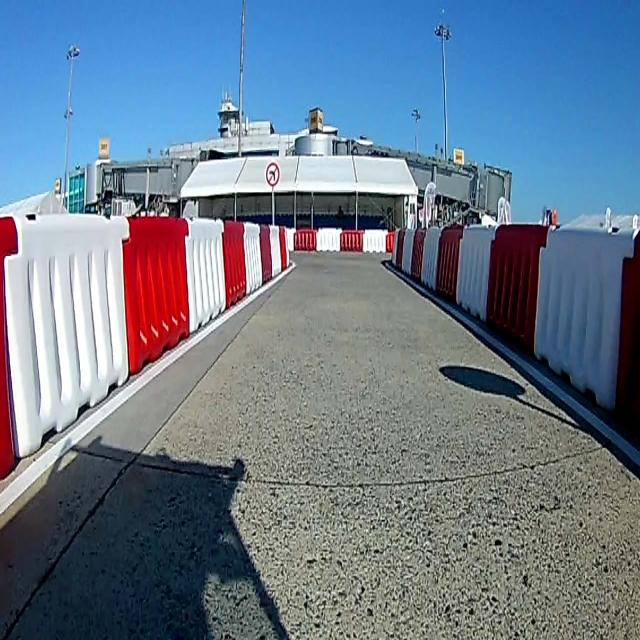soladonulmez: (266, 160, 280, 187)
